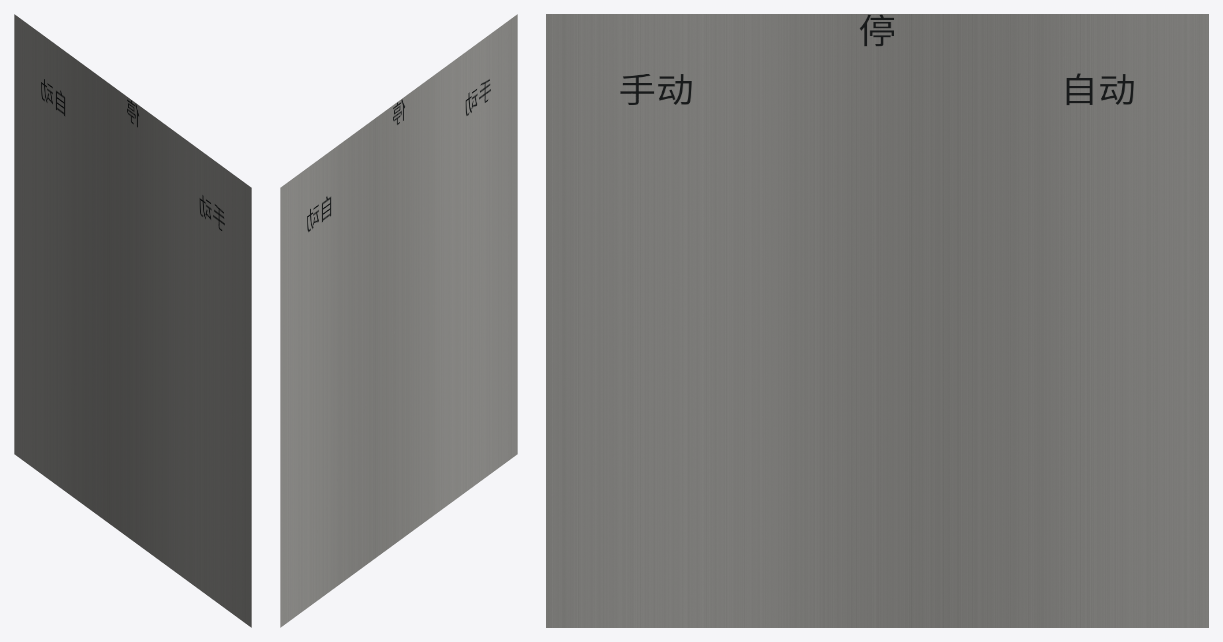
The model's file is nameplate.dae.
The picture shows the model from 3 angles, left to right: view 1: azimuth 30°, elevation 25°; view 2: azimuth 150°, elevation 25°; view 3: azimuth 270°, elevation 25°; orthographic projection. The views are drawn at different scales.
Visible parts, largest first — view 1: nameplate_node; view 2: nameplate_node; view 3: nameplate_node.
Part boxes in pixels (x1,y1,x2,y2): nameplate_node: (14,14,251,627); nameplate_node: (280,14,517,627); nameplate_node: (546,14,1208,627).
Bounding box in the file's own units: 0 × 0.045 × 0.046.
1 material, 1 textured.
